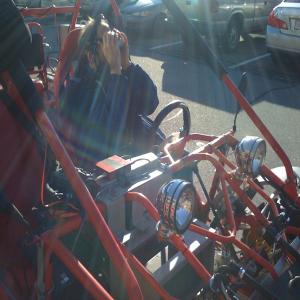Vehicle-registration-plate: (295, 20, 300, 32)
